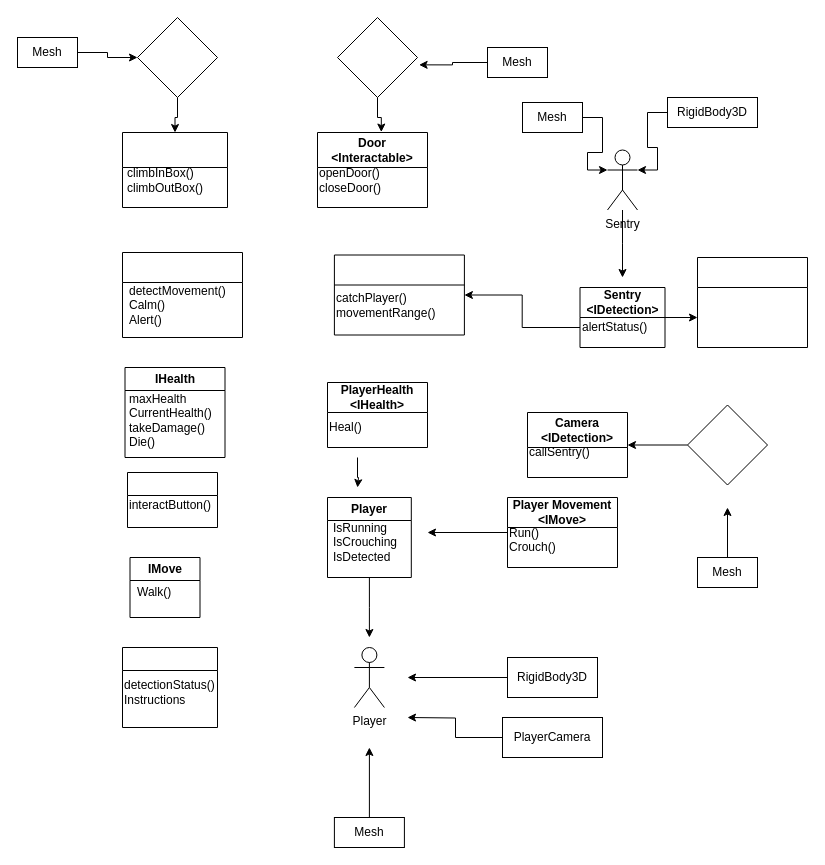
Image size: 825x865. Some labels were removed from this diagram. Here are the shapes that lost their labels. From the top down, the box of each, then its label:
(136, 16, 218, 98): Box
(336, 16, 418, 98): Door
(122, 132, 228, 208): Box <Interactable>
(122, 252, 242, 338): IDectection
(333, 254, 464, 335): Sentry Movement <IMove>
(696, 256, 808, 348): SentryHealth <IHealth>
(686, 404, 768, 485): Camera
(126, 472, 218, 528): IInteractable
(122, 646, 218, 728): HUD
